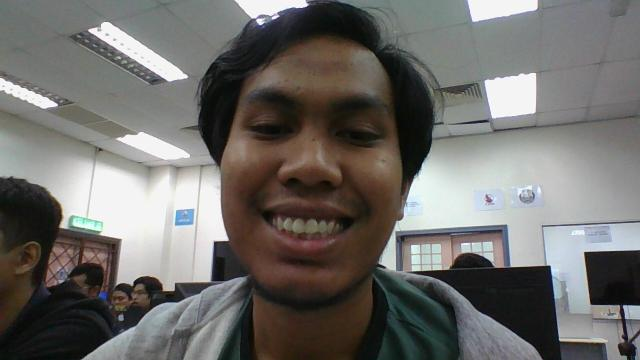senang: (202, 14, 417, 304)
